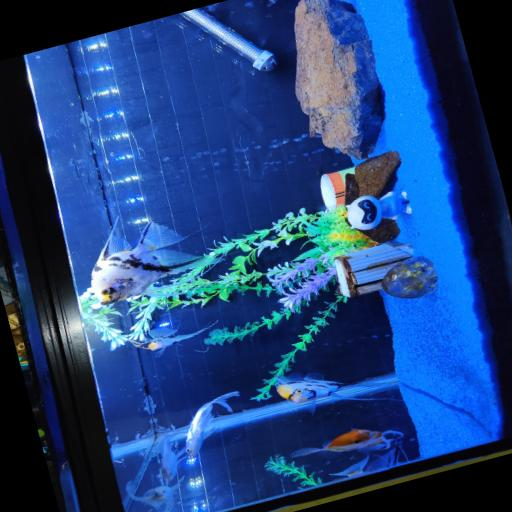Fish: (91, 217, 217, 304), (277, 372, 401, 410), (185, 391, 239, 455), (291, 428, 402, 456), (131, 321, 216, 356), (330, 444, 403, 476), (126, 477, 182, 511), (126, 477, 182, 507), (161, 431, 186, 480)
